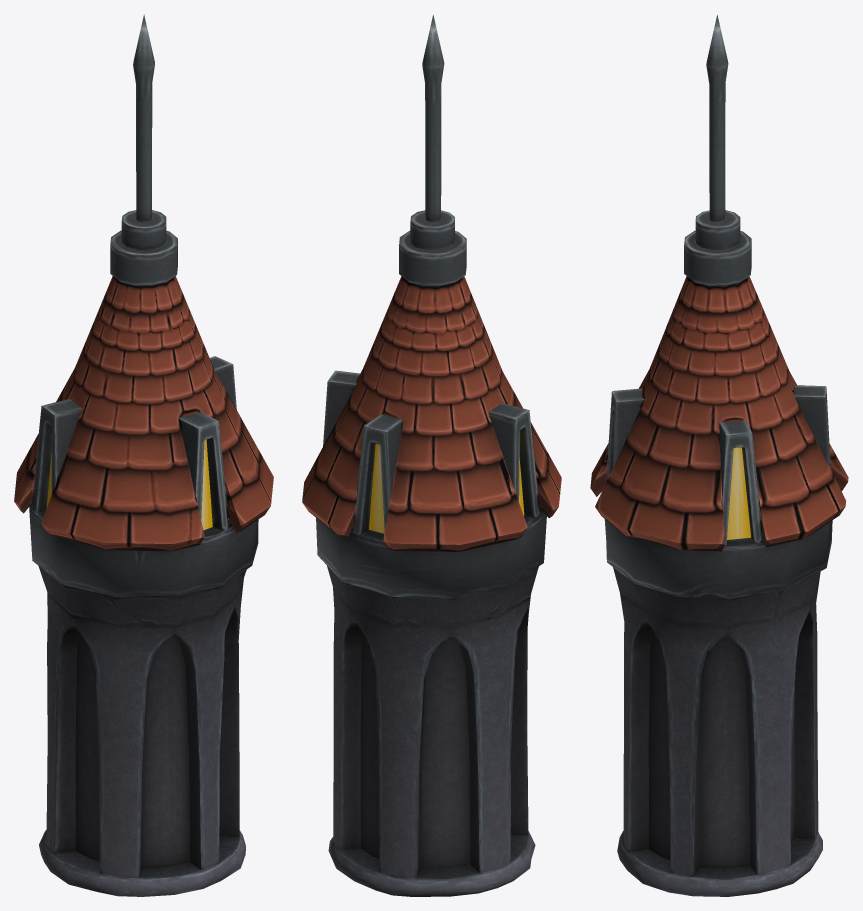
File: Tower_3.fbx
3 renders of one model, left to right at view 1: azimuth 30°, elevation 25°; view 2: azimuth 150°, elevation 25°; view 3: azimuth 270°, elevation 25°, orthographic.
Visible parts, largest first — view 1: Tower_3; view 2: Tower_3; view 3: Tower_3.
Part boxes in pixels (bbox=[...]): Tower_3: bbox=[14, 14, 273, 896]; Tower_3: bbox=[302, 15, 561, 896]; Tower_3: bbox=[590, 15, 848, 896].
Bounding box in the file's own units: 404 × 1448 × 403.
